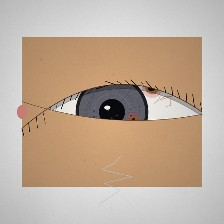foreign_body_visible: (128, 68, 177, 107)
